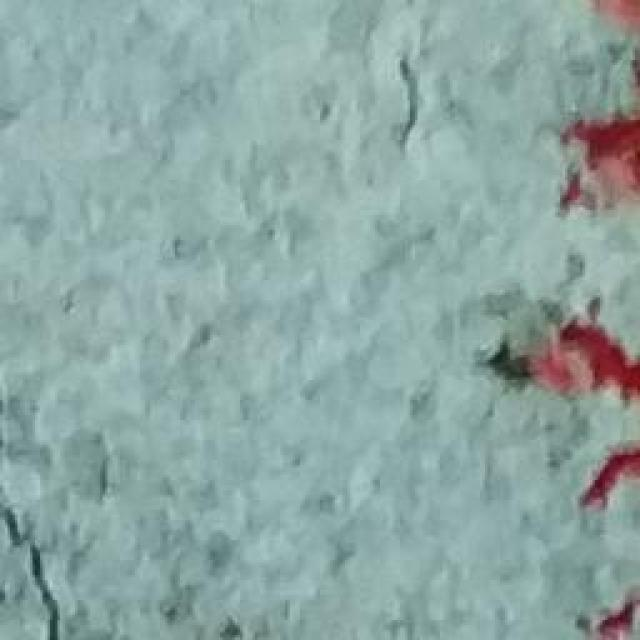Diagonal: (1, 455, 74, 640)
Rippled: (538, 4, 640, 640)
